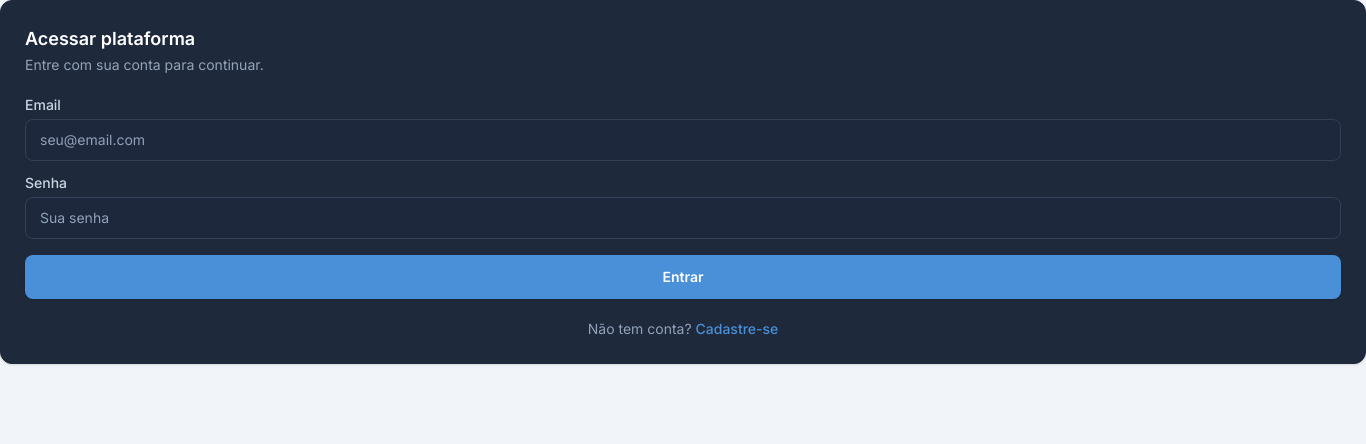
Test: Login — mensagem de erro (#19 CA1, V12) › sem resposta do servidor continua com a mensagem genérica
In the field labelled "Email": (683, 140) [25,119,1341,161], type "joao@foca.ai"
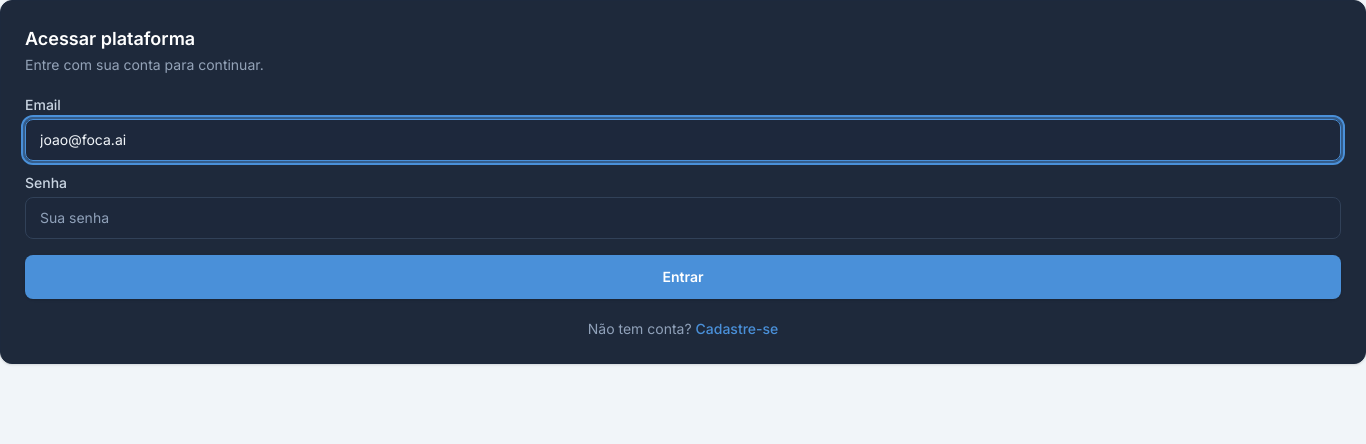
In the password field labelled "Senha": (683, 218) [25,197,1341,239], type "errada"
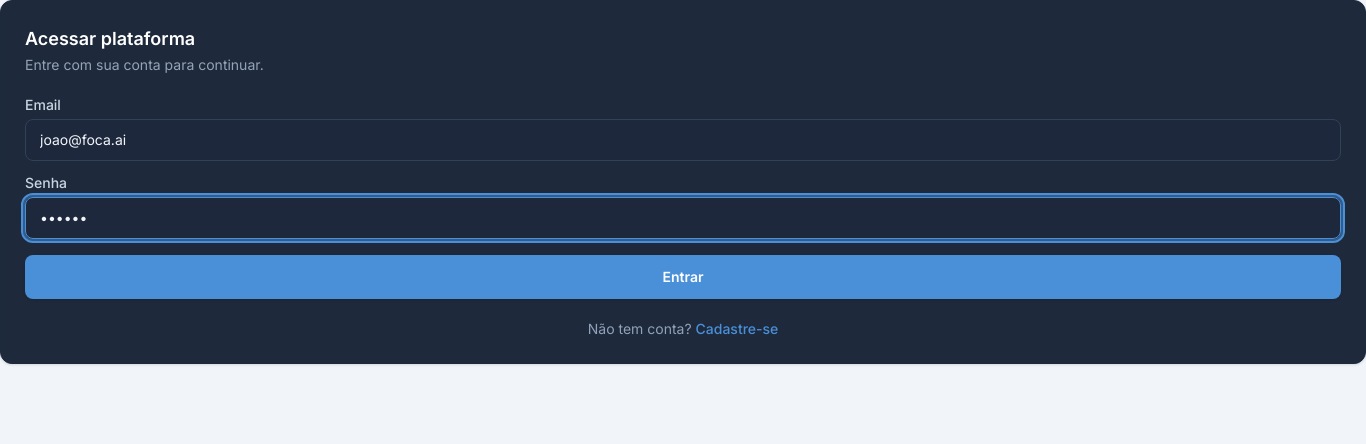
Click the button "Entrar": (683, 277) [25,255,1341,299]
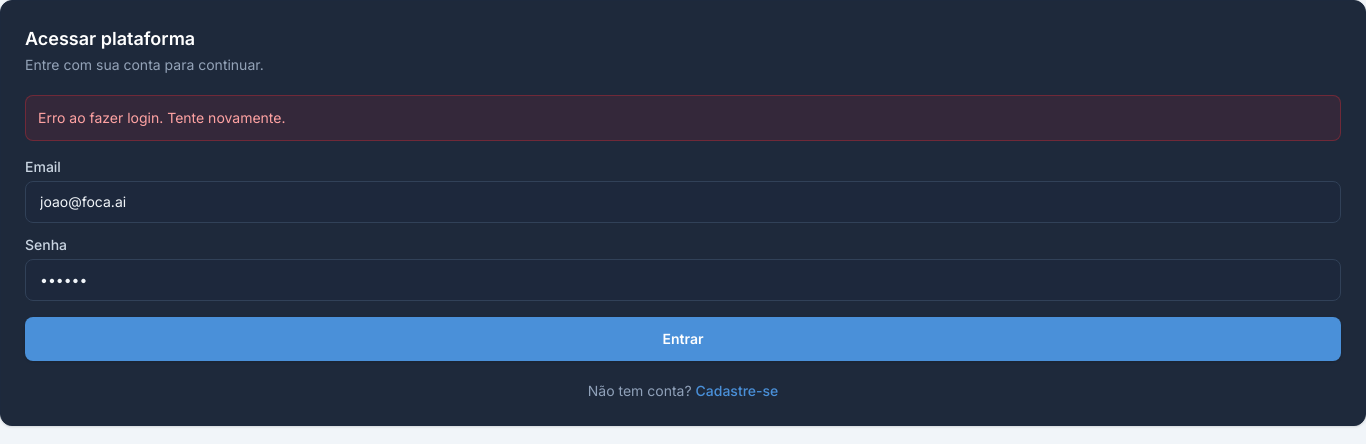
Check: the text "Erro ao fazer login. Tente novamente." is shown, box [25,95,1341,141]
